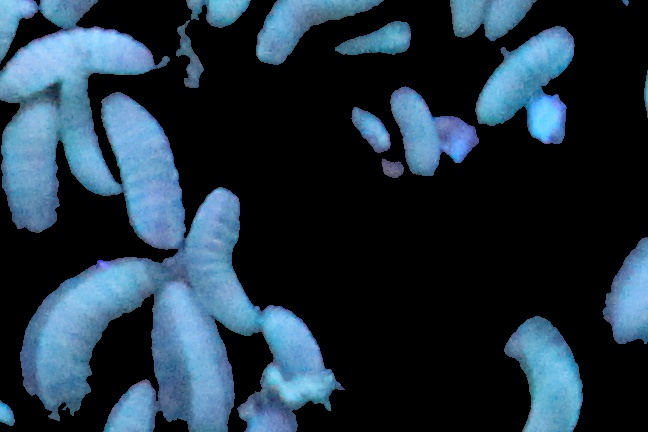larvae: (17, 261, 153, 407), (88, 81, 190, 255), (178, 185, 271, 340), (469, 22, 591, 134), (1, 92, 80, 256), (150, 290, 232, 432), (1, 29, 171, 95), (503, 306, 592, 432), (253, 1, 400, 64), (387, 81, 455, 188), (55, 79, 114, 194), (267, 303, 328, 386)
